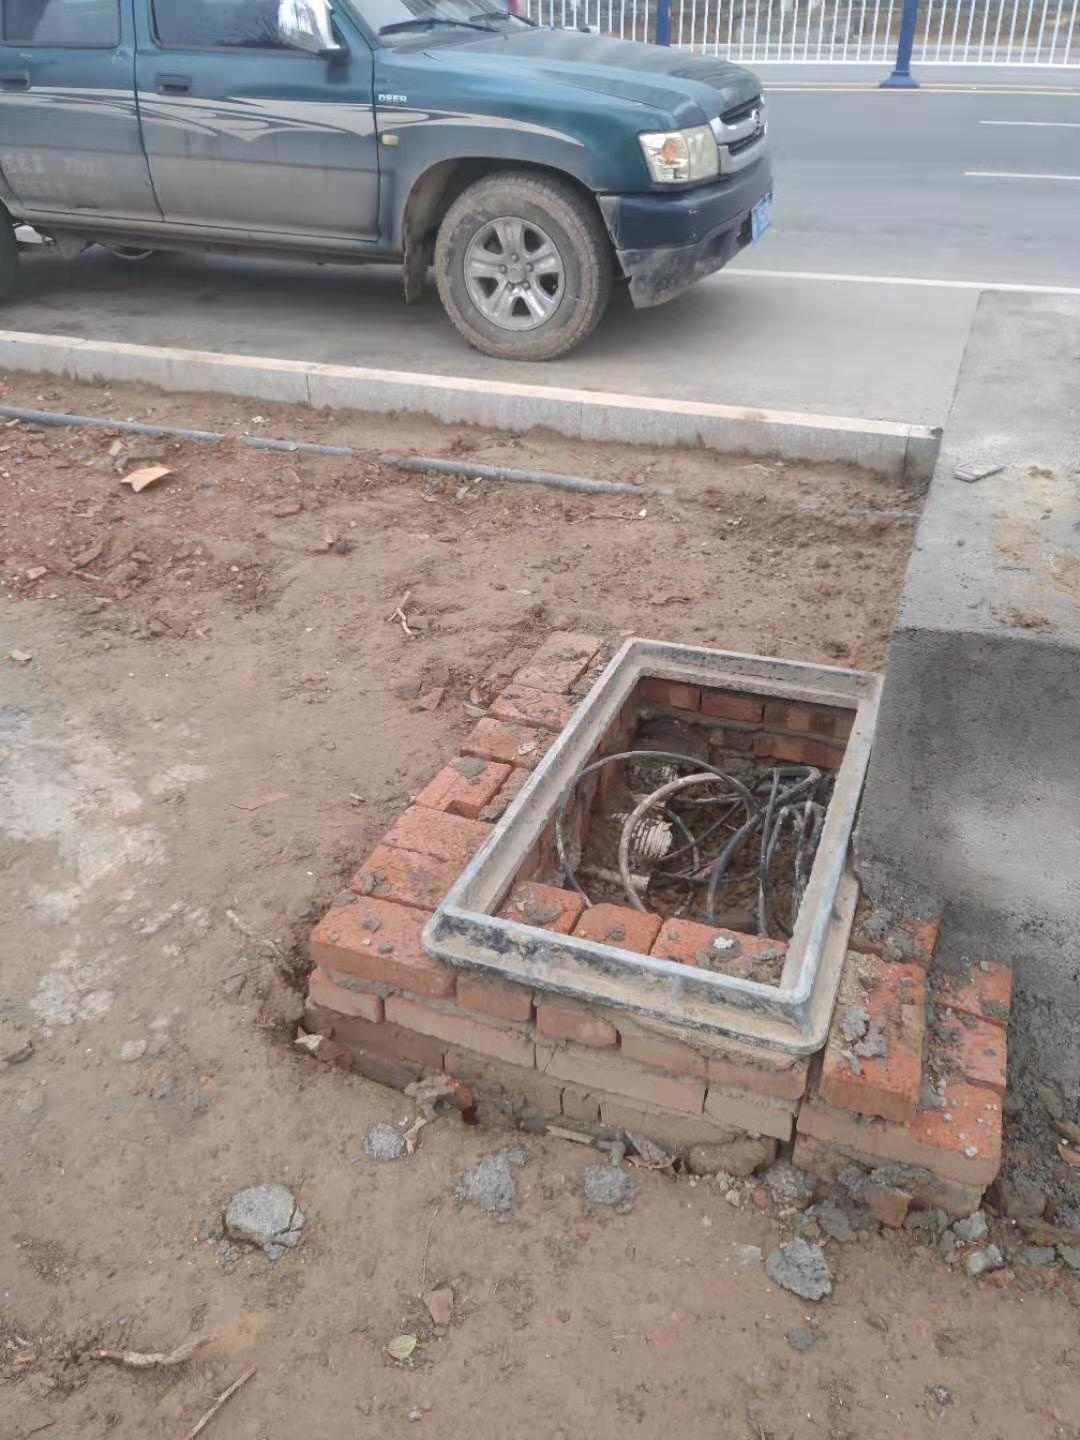lose: (410, 630, 889, 1073)
